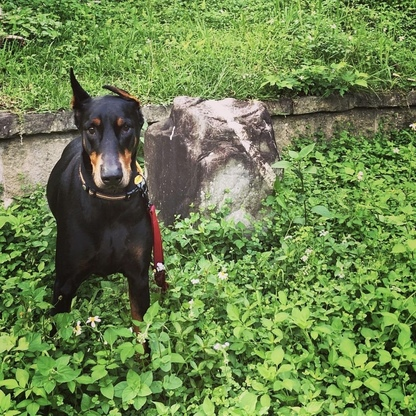doberman: (41, 65, 171, 337)
